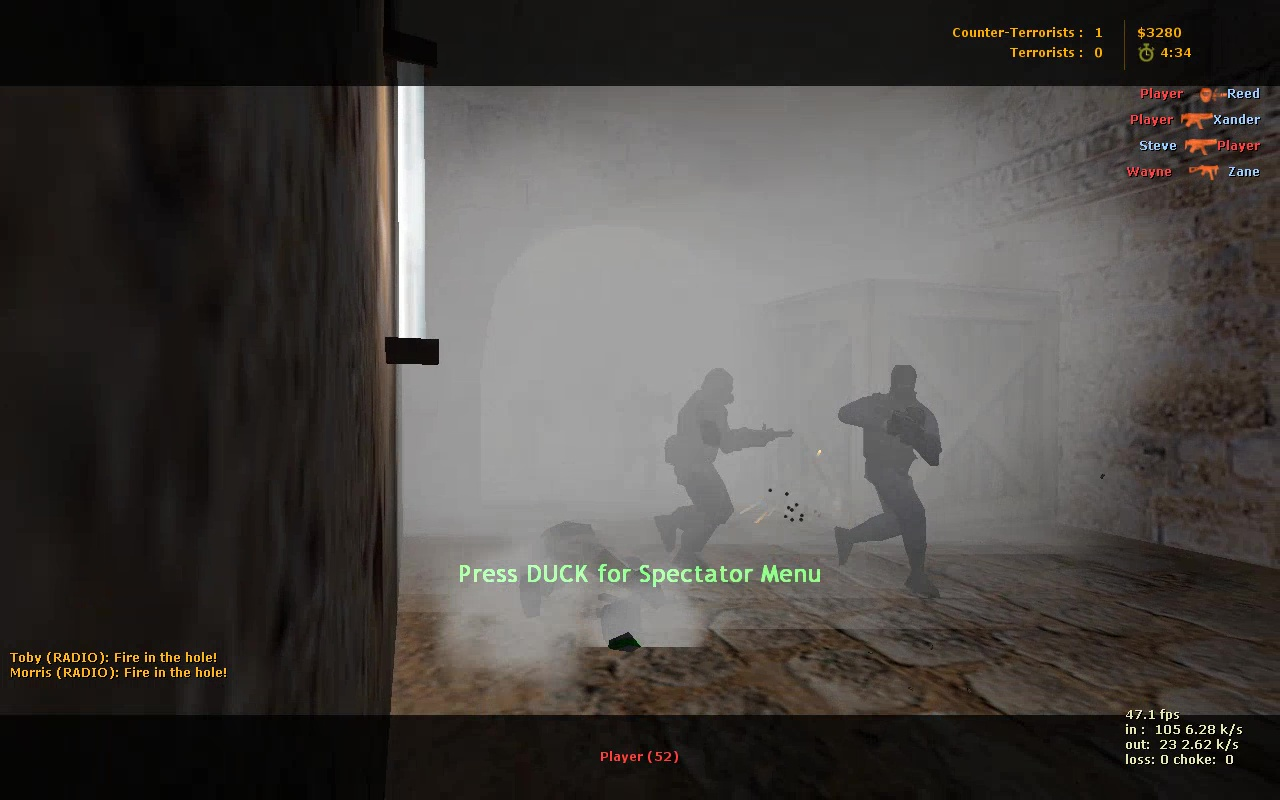ct: (833, 368, 943, 599), (646, 371, 761, 564)
dead: (521, 520, 656, 617)
